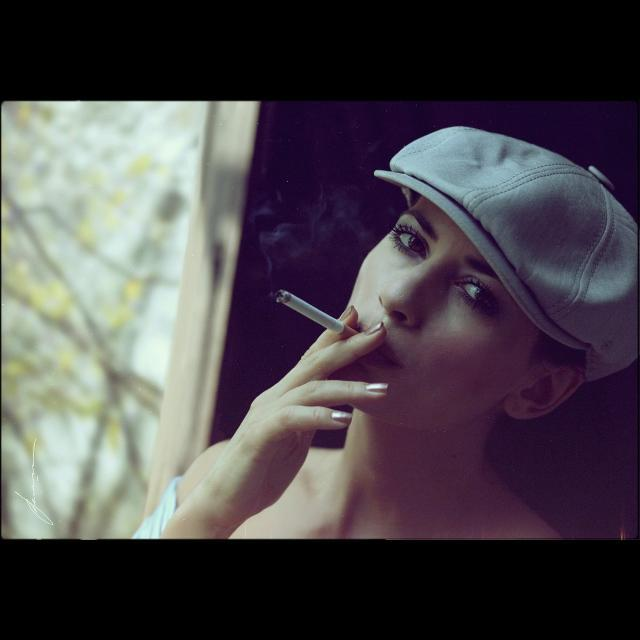rokok: (278, 284, 366, 344)
